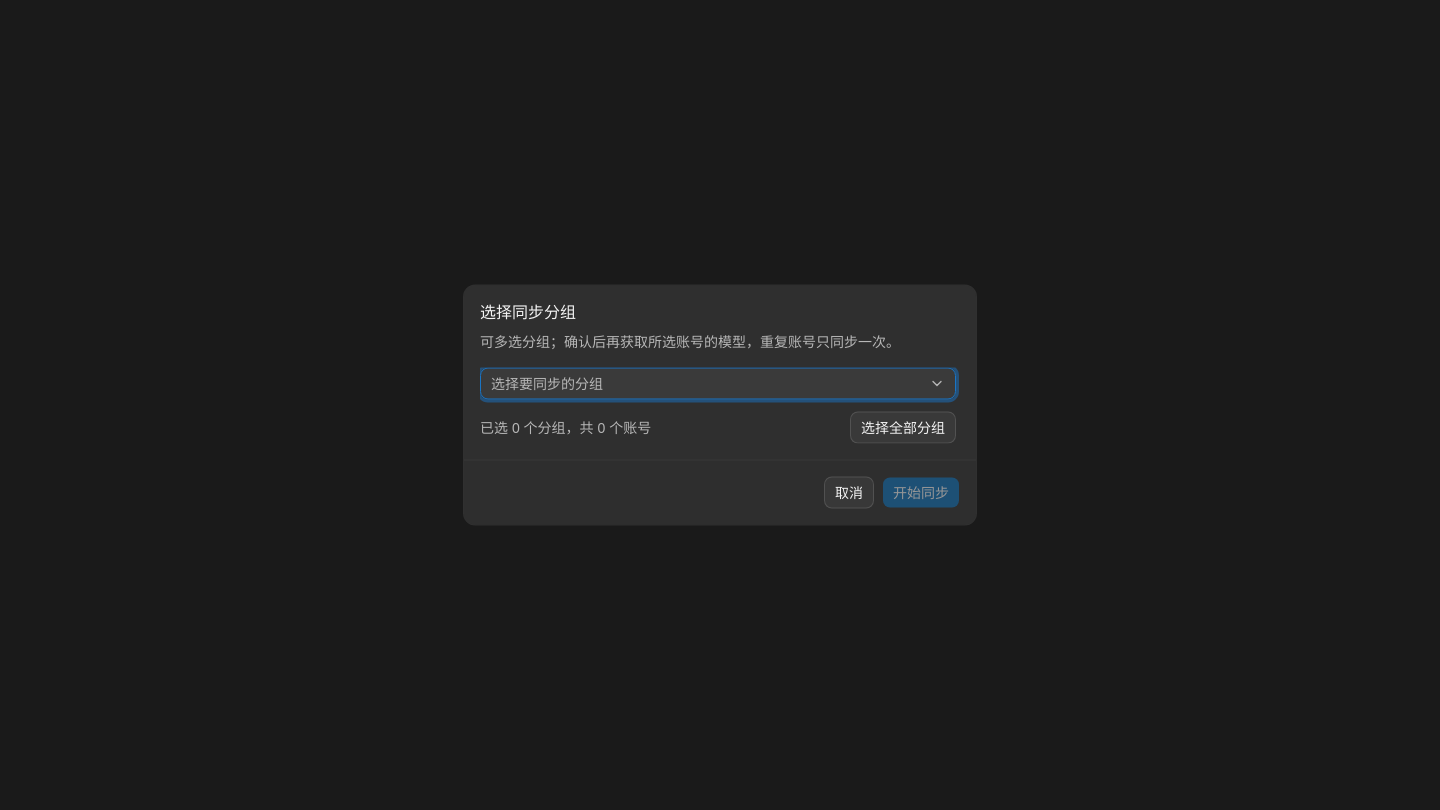
搜索隐藏已选模型后计数保持完整，切换分组不会继承另一组草稿
The image size is (1440, 810).
Click the button "选择全部分组" at (903,428), box [850, 412, 956, 444]
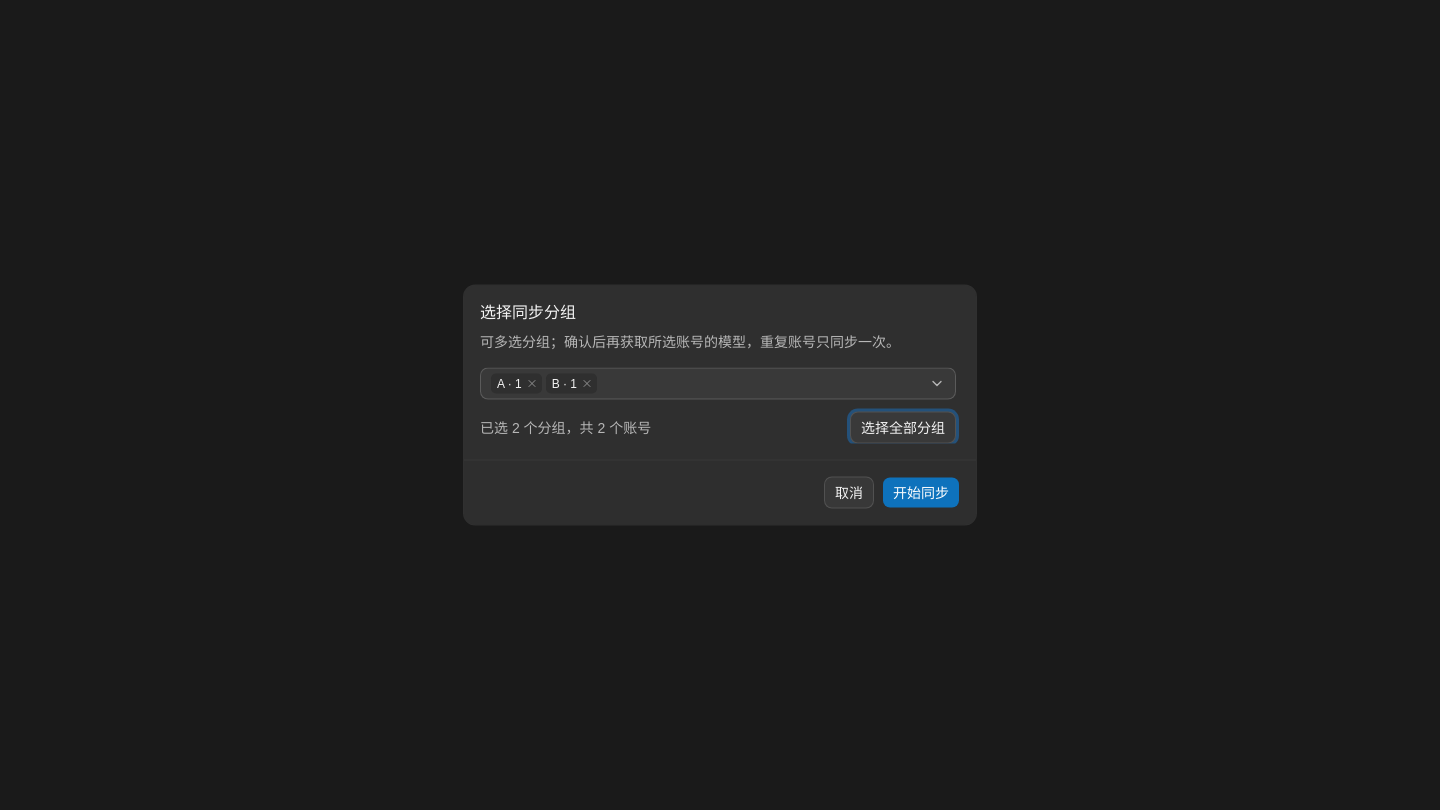
Click the button "开始同步" at (921,492), box [882, 476, 960, 508]
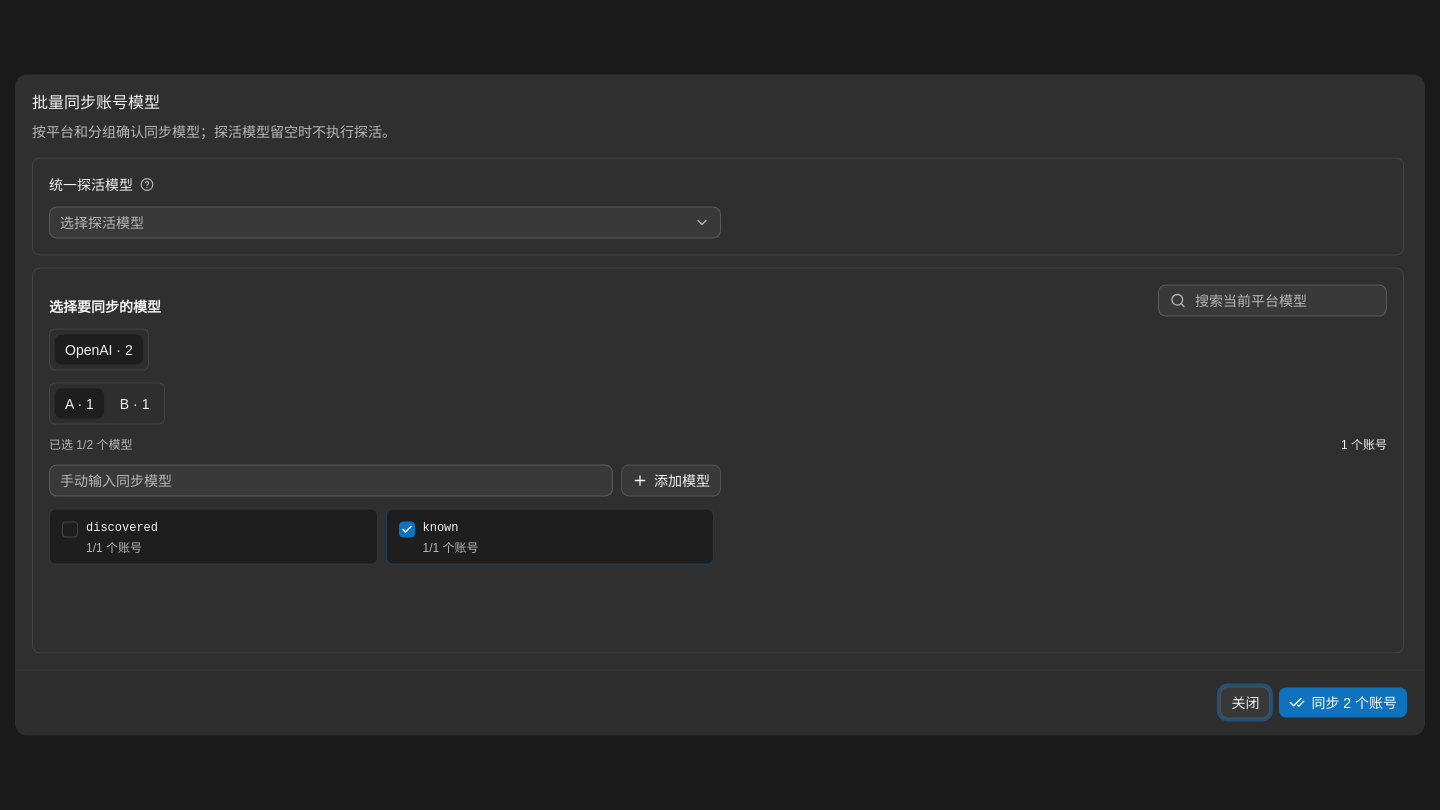
Expected: the field labelled "手动输入同步模型" is shown, [49, 464, 613, 496]
Type "discovered" into the field named "搜索模型" at (1272,300), box [1158, 284, 1387, 316]
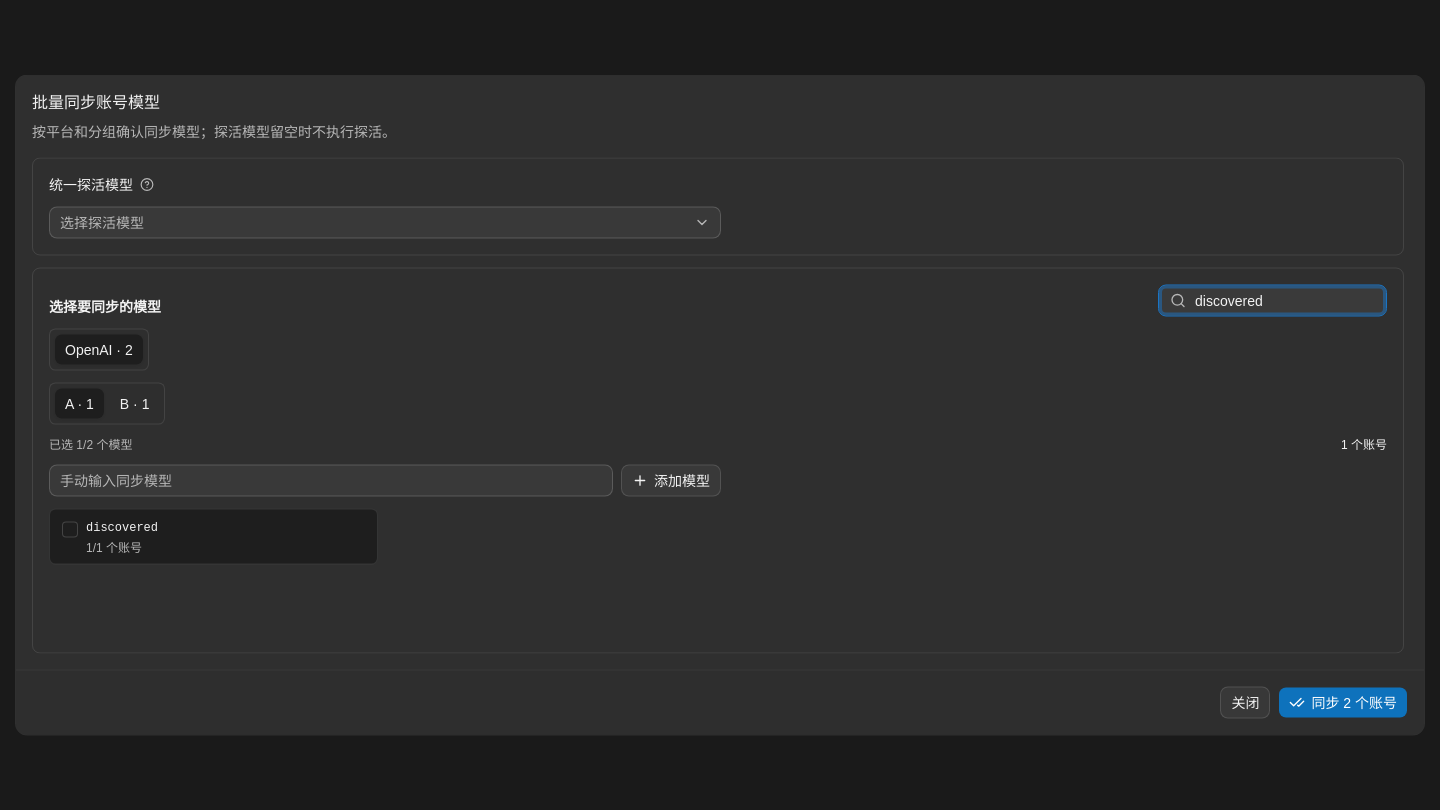
Expected: the text "已选 1/2 个模型" is shown, [49, 436, 132, 452]
Click the checkbox named "同步模型 discovered" at (70,530), box [62, 522, 78, 538]
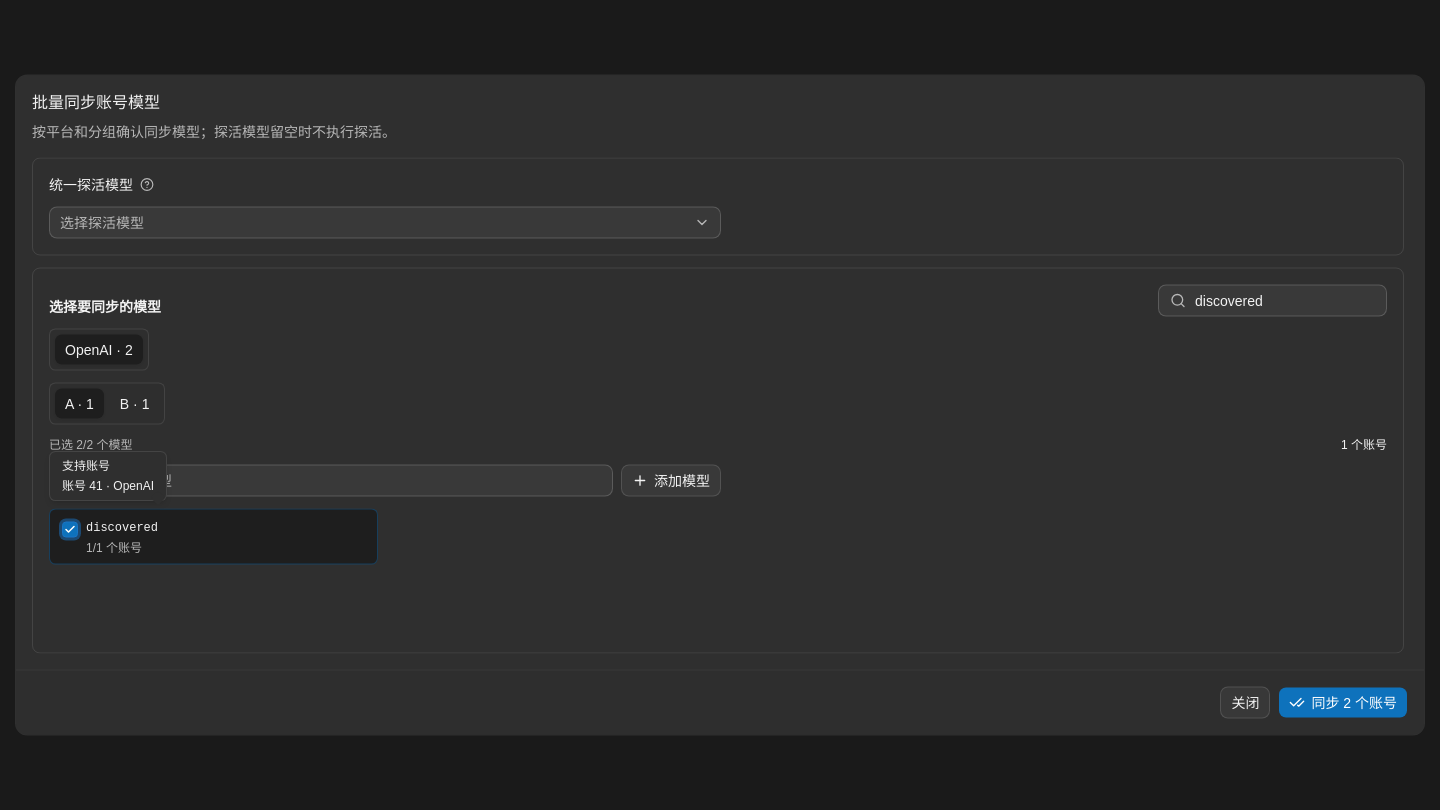
Expected: the text "已选 2/2 个模型" is shown, [49, 436, 132, 452]
Click the tab "B · 1" at (135,404), box [109, 388, 160, 420]
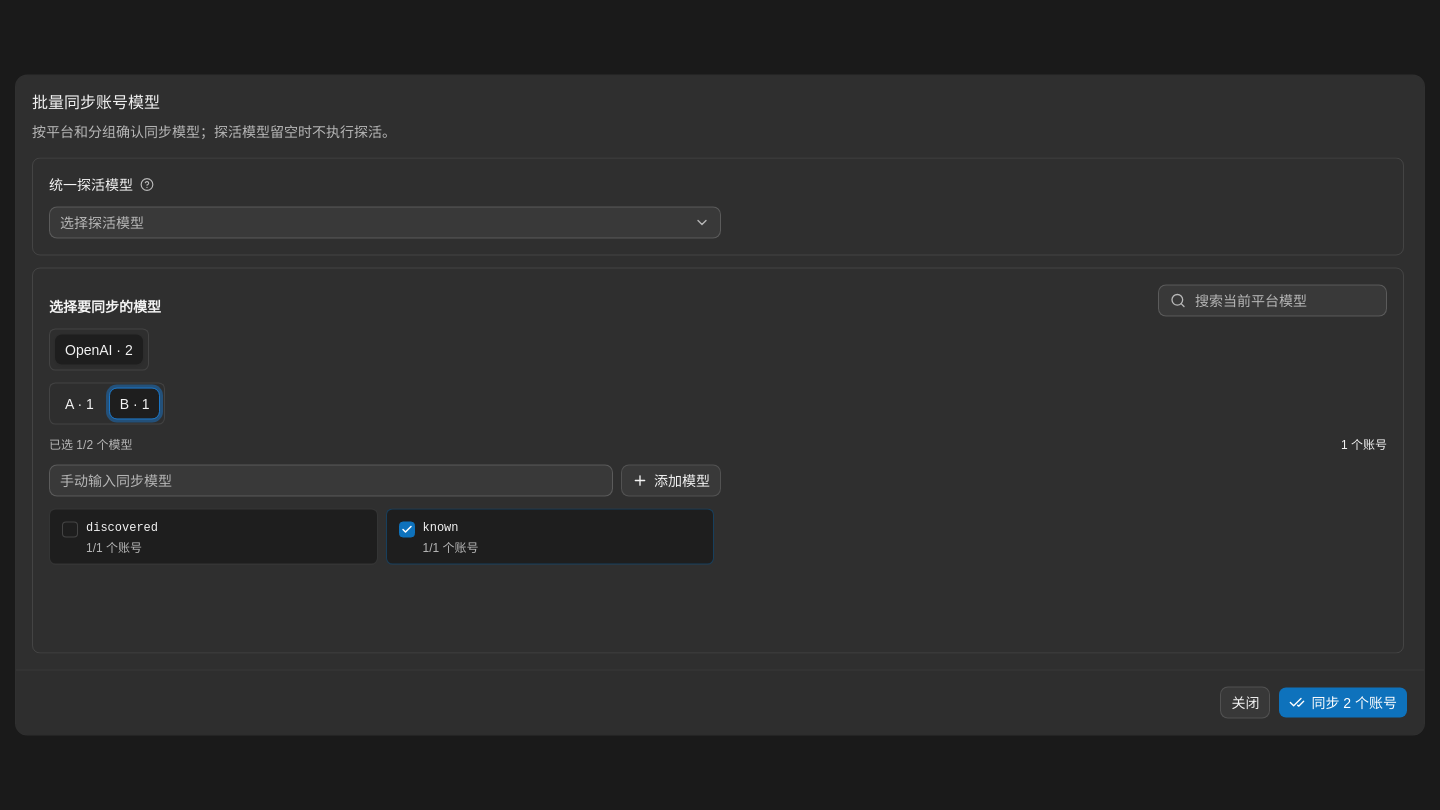
Expected: the checkbox named "同步模型 discovered" is not checked, [62, 522, 78, 538]
Expected: the text "已选 1/2 个模型" is shown, [49, 436, 132, 452]
Click the tab "A · 1" at (79,404), box [54, 388, 105, 420]
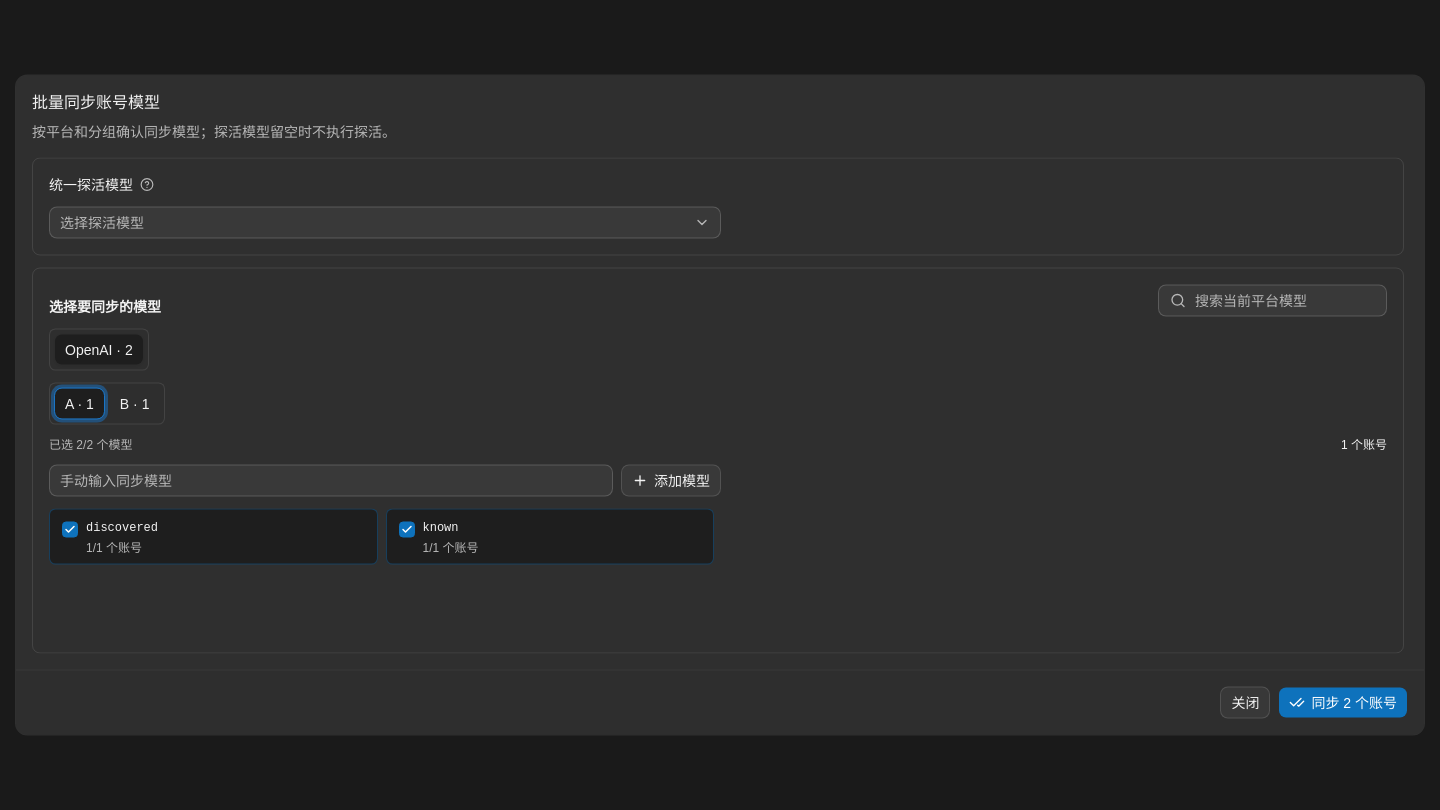
Expected: the checkbox named "同步模型 discovered" is checked, [62, 522, 78, 538]
Expected: the text "已选 2/2 个模型" is shown, [49, 436, 132, 452]
